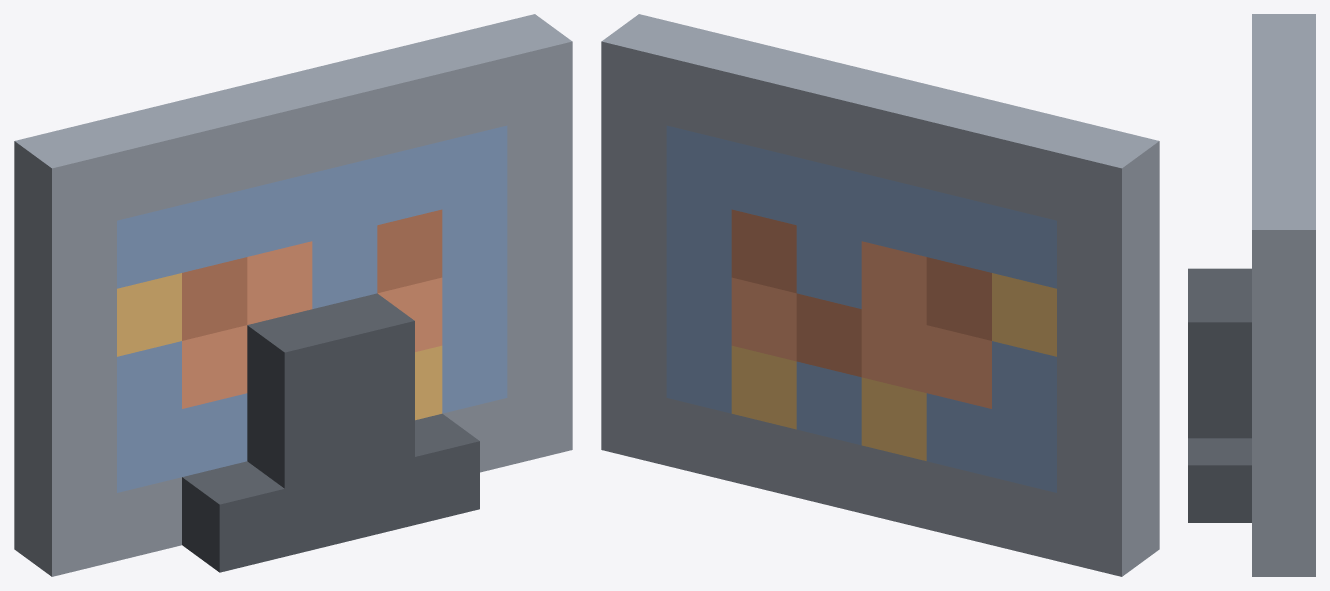
The model's file is photo.obj.
The picture shows the model from 3 angles, left to right: view 1: azimuth 30°, elevation 25°; view 2: azimuth 150°, elevation 25°; view 3: azimuth 270°, elevation 25°; orthographic projection. The views are drawn at different scales.
Bounding box in the file's own units: 0.8 × 0.6 × 0.2.
Materials: 1 (1 with a texture image).
